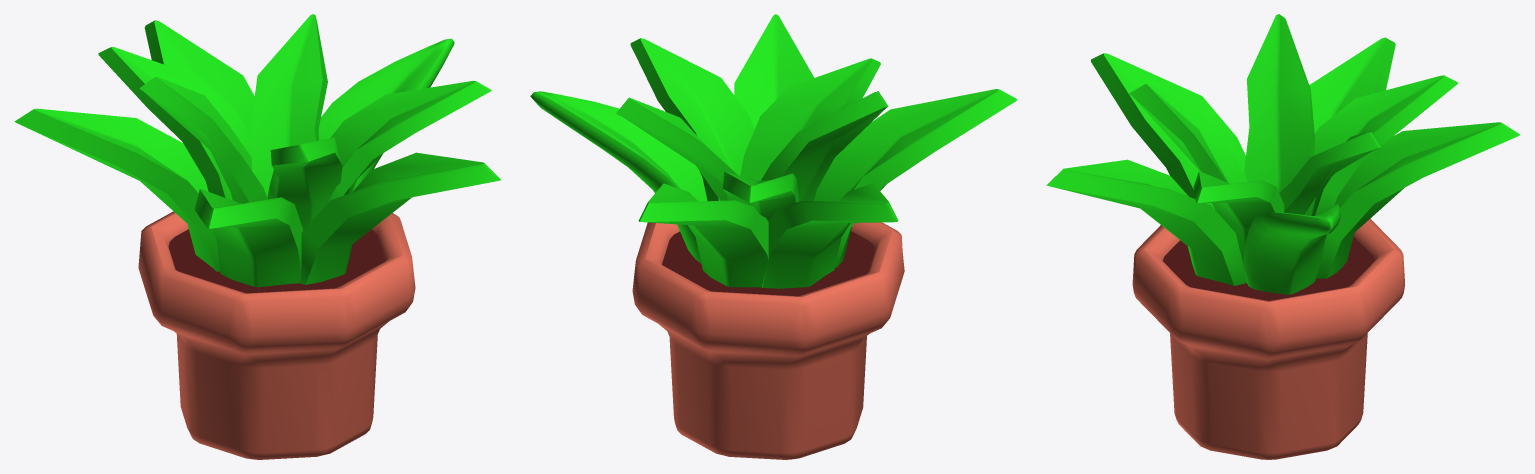
The model's file is SM_Plant2.fbx.
3 views of the same model, side by side, from view 1: azimuth 30°, elevation 25°; view 2: azimuth 150°, elevation 25°; view 3: azimuth 270°, elevation 25° (orthographic). The views are drawn at different scales.
Visible parts, largest first — view 1: SM_Plant2; view 2: SM_Plant2; view 3: SM_Plant2.
Part boxes in pixels (<box>): SM_Plant2: <box>14,14,500,459</box>; SM_Plant2: <box>530,14,1017,459</box>; SM_Plant2: <box>1046,14,1520,459</box>.
Size of the model in its own units: 107 by 93.73 by 113.
